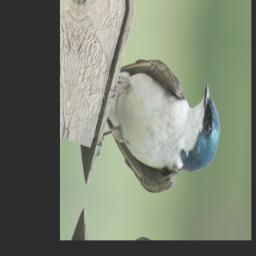Swallow: (92, 43, 227, 211)
